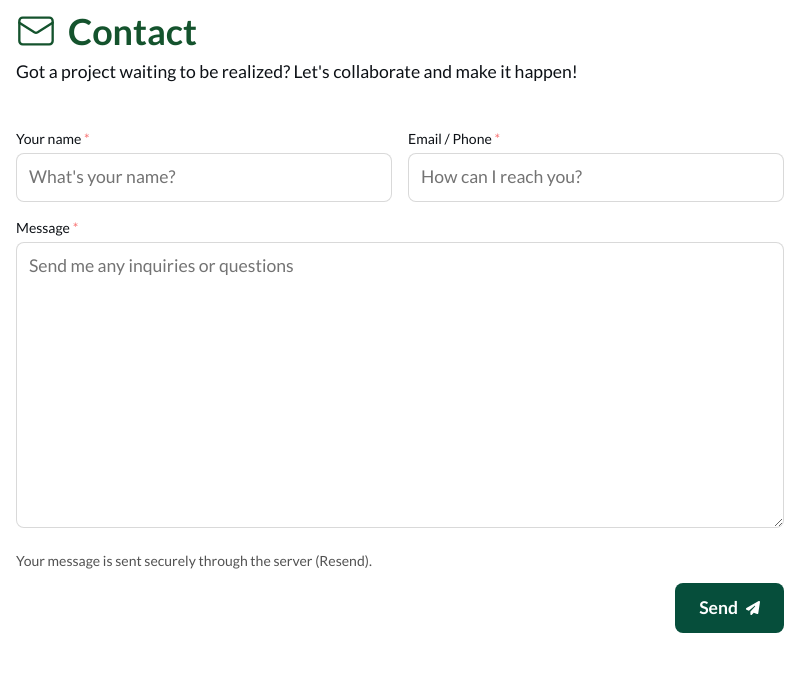
Scenario: Contact › submits via mailto and shows success message
Type "Test User" into the field labelled "Your name *" at point(204, 178), box [16,153,392,202]
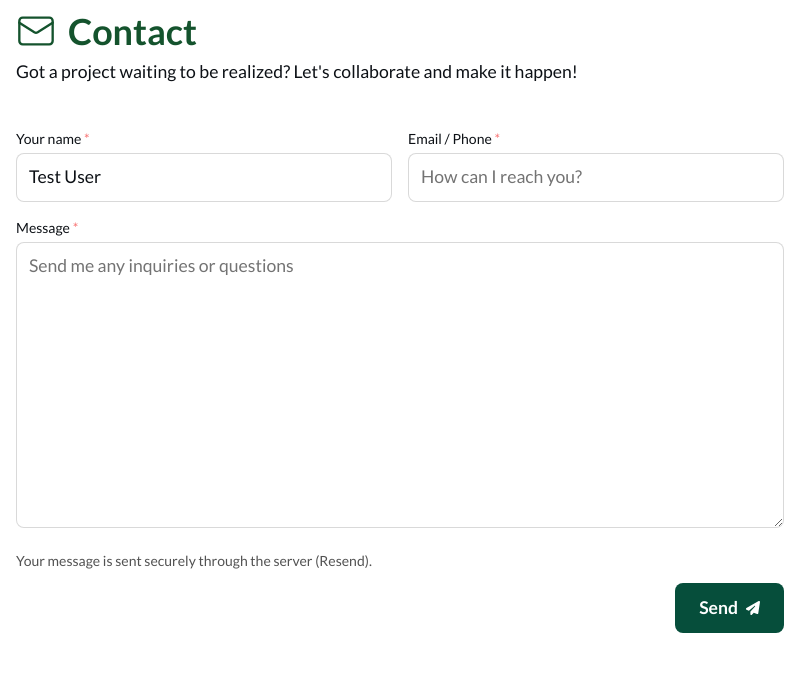
Type "a@b.co" into the field labelled "Email / Phone *" at point(596, 178), box [408,153,784,202]
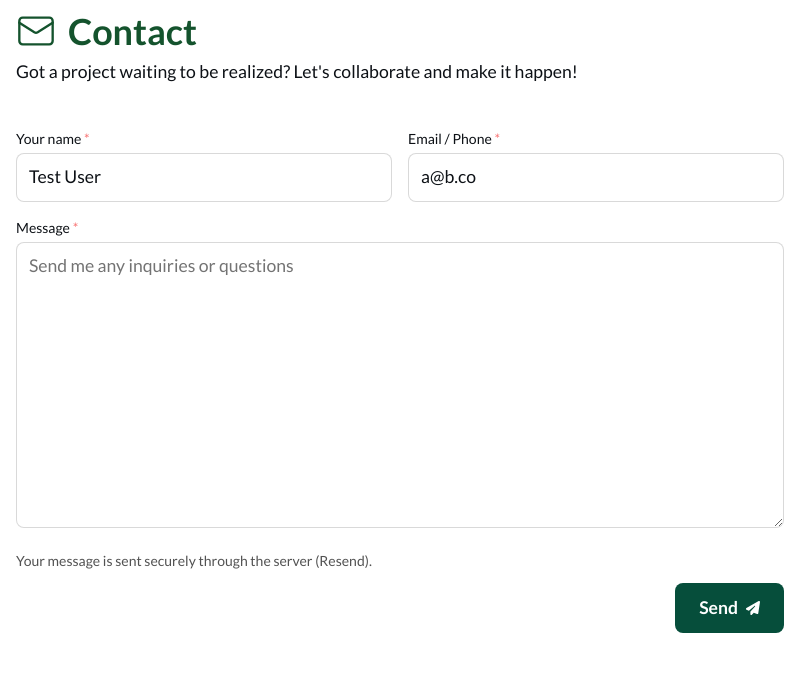
Type "Hello" into the text box labelled "Message *" at point(400, 385), box [16,242,784,528]
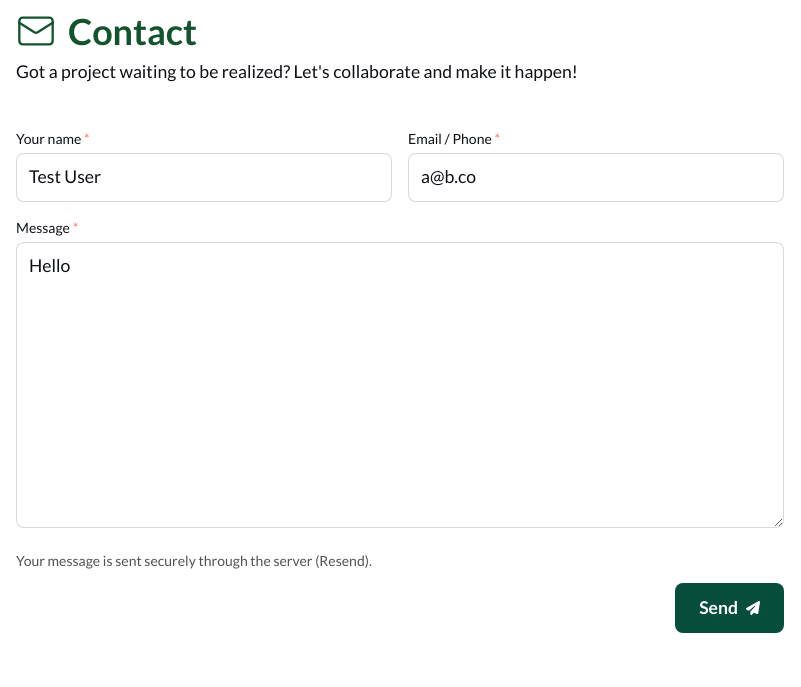
Click the button "Send" at point(730, 608), box [675,583,784,634]
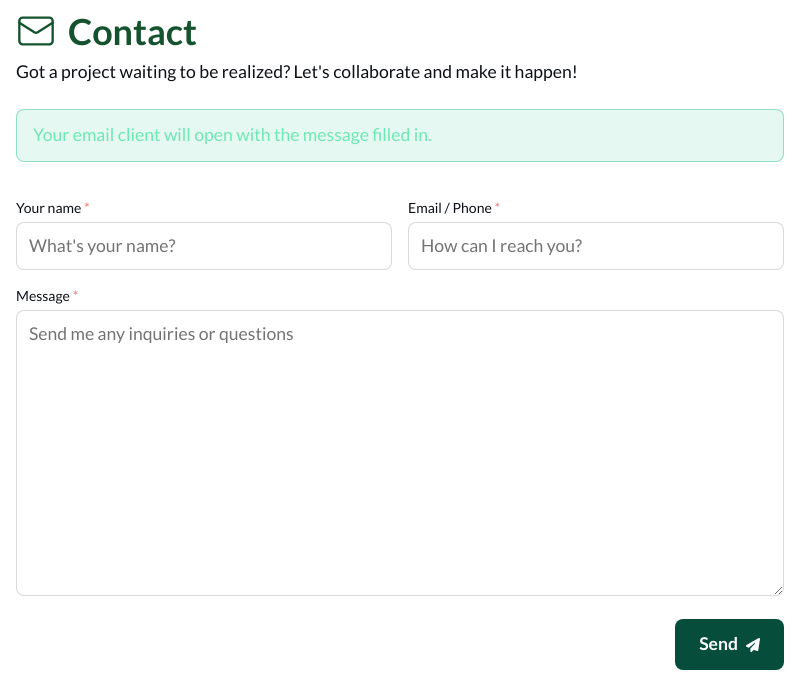
Expected: the message "Your email client will open with the message filled in." is shown, [16,109,784,162]
